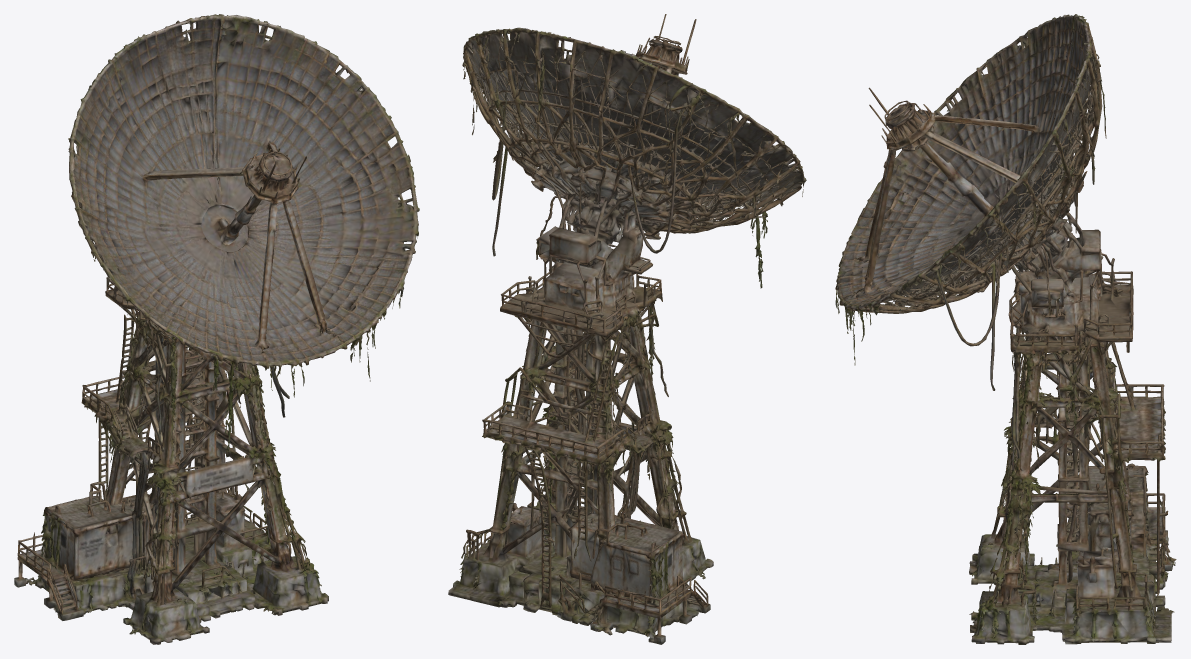
Rendered from radar_dish.glb.
3 views of the same model, side by side, from view 1: azimuth 30°, elevation 25°; view 2: azimuth 150°, elevation 25°; view 3: azimuth 270°, elevation 25° (orthographic). The views are drawn at different scales.
Parts seen in each view (by area): view 1: radar_dish; view 2: radar_dish; view 3: radar_dish.
Part boxes in pixels (x1,y1,x2,y2): radar_dish: [14, 14, 419, 644]; radar_dish: [448, 14, 806, 644]; radar_dish: [835, 14, 1176, 644].
Size of the model in its own units: 115 by 190 by 105.
Materials: 1 (1 with a texture image).
